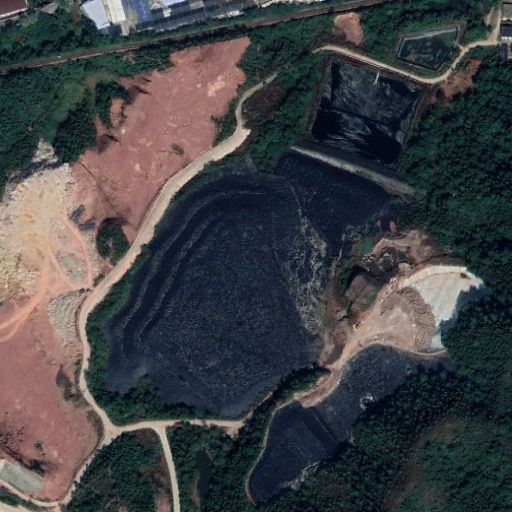lf: (102, 149, 419, 502)
